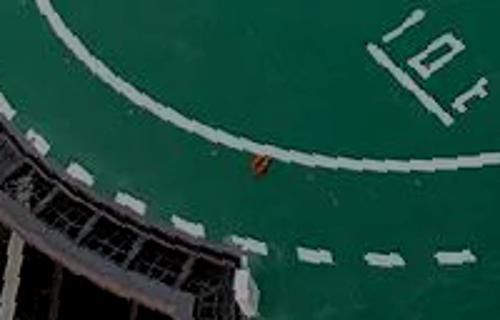Apron: (31, 3, 500, 180)
